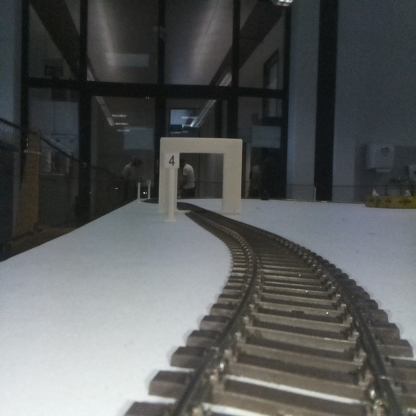white-info-4: (164, 151, 179, 222)
